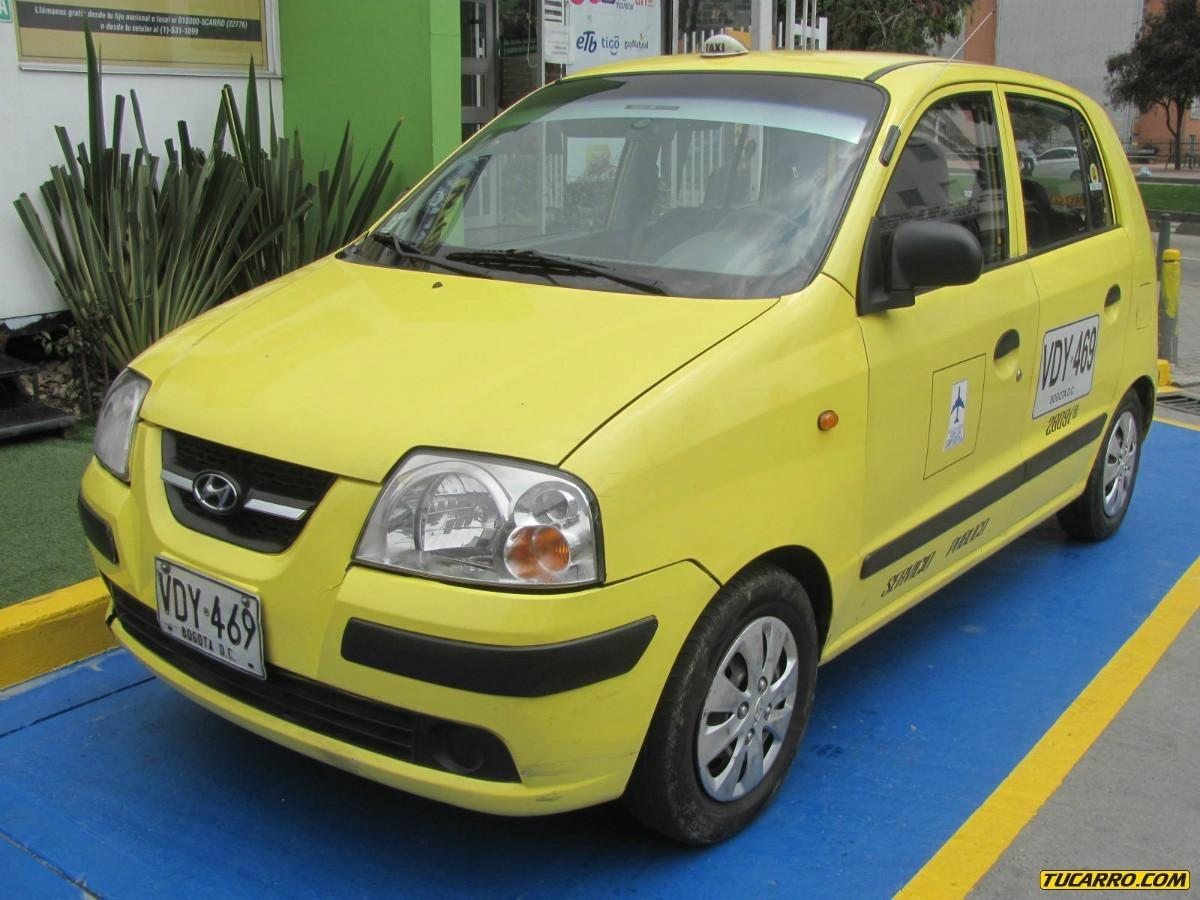taxi: (74, 48, 1200, 836)
